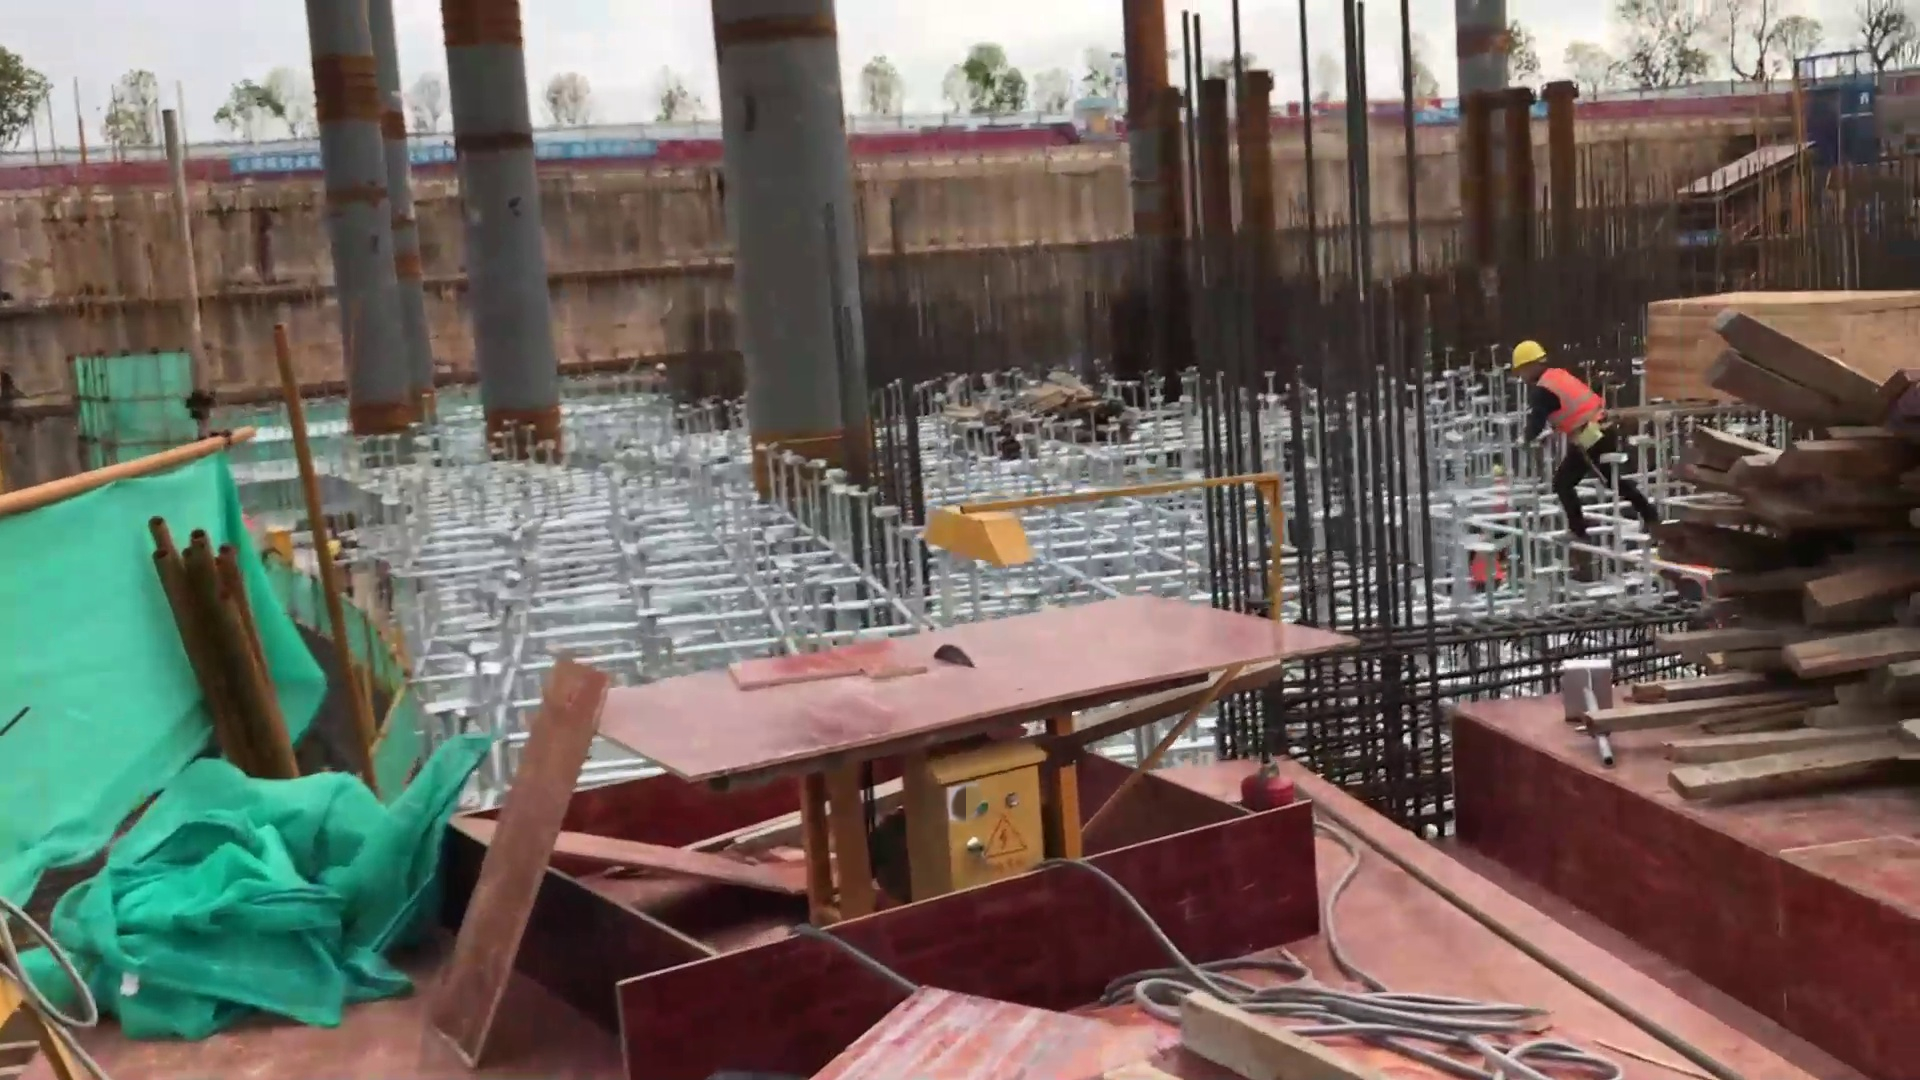cutter: (577, 605, 1305, 792)
ebox: (913, 759, 1053, 854)
helmet: (1504, 336, 1548, 371)
person: (1479, 330, 1656, 573)
vest: (1535, 369, 1619, 446)
wood: (1698, 354, 1920, 762), (1666, 276, 1891, 411), (961, 369, 1119, 457)
